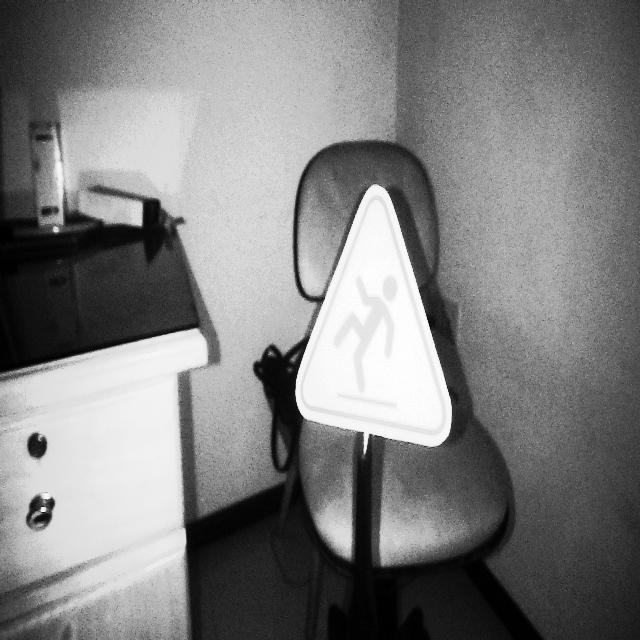Sign: (294, 182, 454, 450)
